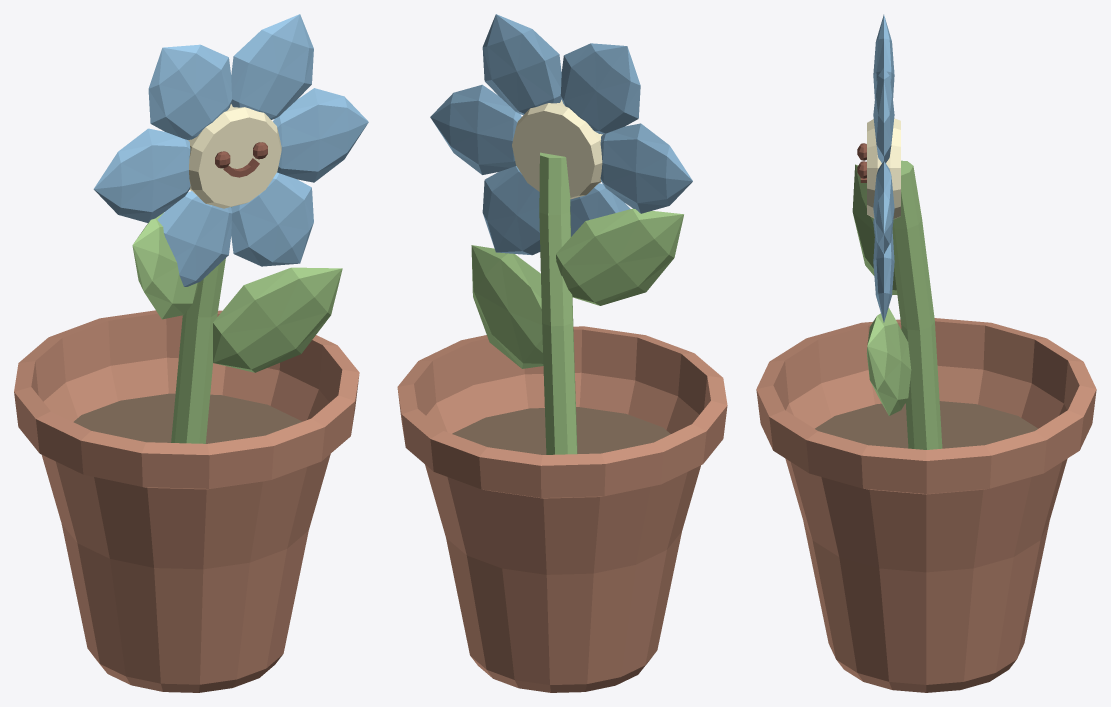
The model's file is 盆栽花.glb.
The picture shows the model from 3 angles, left to right: view 1: azimuth 30°, elevation 25°; view 2: azimuth 150°, elevation 25°; view 3: azimuth 270°, elevation 25°; orthographic projection. The views are drawn at different scales.
Parts seen in each view (by area): view 1: Pot, Petals, Leaf, Flower_Center, Soil, Stem; view 2: Pot, Petals, Leaf, Stem, Soil, Flower_Center; view 3: Pot, Stem, Soil, Petals, Leaf, Flower_Center.
Part boxes in pixels (left/top/right/bottom): Pot: left=14, top=310, right=359, bottom=692; Petals: left=93, top=14, right=368, bottom=286; Leaf: left=132, top=212, right=342, bottom=372; Flower_Center: left=188, top=104, right=281, bottom=208; Soil: left=73, top=393, right=301, bottom=443; Stem: left=171, top=207, right=231, bottom=443; Pot: left=397, top=326, right=727, bottom=692; Petals: left=430, top=14, right=692, bottom=255; Leaf: left=471, top=208, right=683, bottom=368; Stem: left=539, top=152, right=577, bottom=454; Soil: left=452, top=407, right=670, bottom=454; Flower_Center: left=512, top=100, right=602, bottom=199; Pot: left=756, top=318, right=1096, bottom=692; Stem: left=892, top=160, right=942, bottom=449; Soil: left=815, top=401, right=1037, bottom=448; Petals: left=873, top=14, right=894, bottom=322; Leaf: left=852, top=164, right=911, bottom=415; Flower_Center: left=867, top=118, right=900, bottom=218.
Bounding box in the file's own units: 0.165 × 0.3212 × 0.16.
